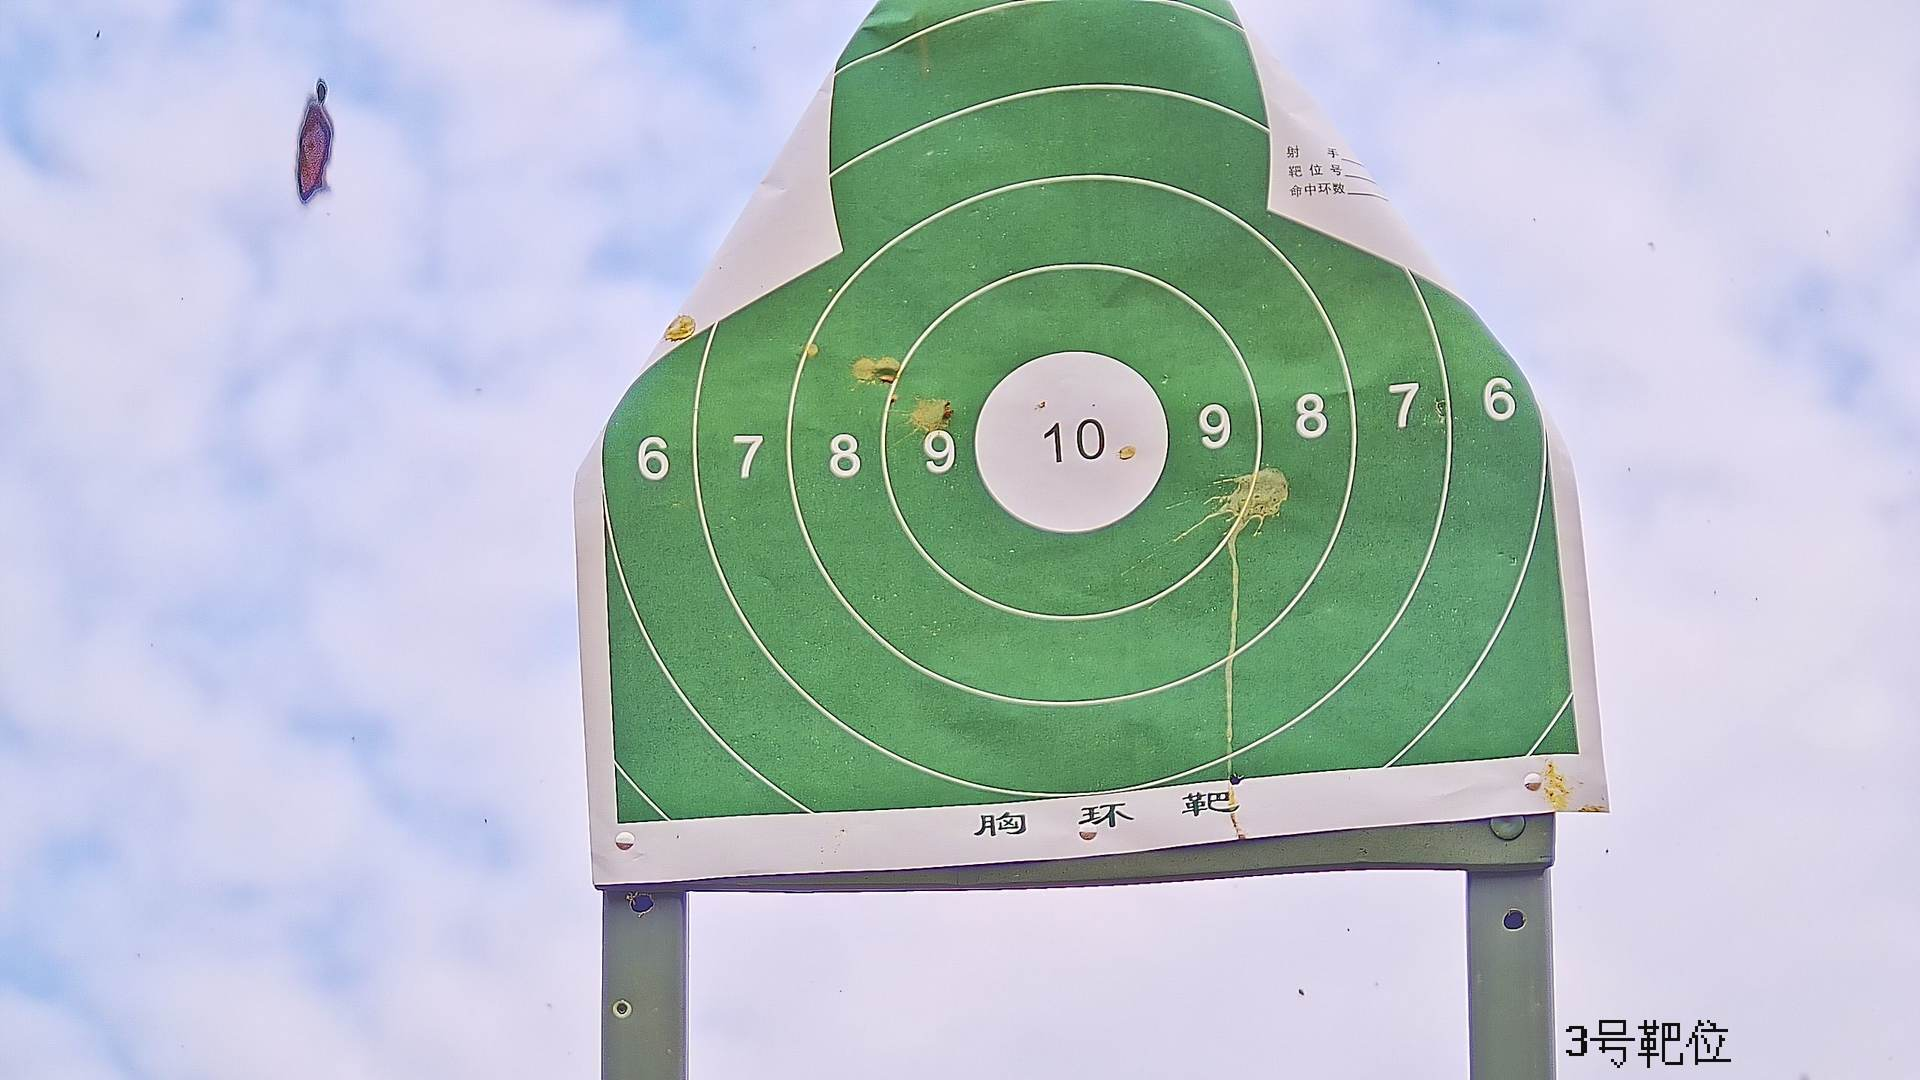hole: (1226, 773, 1247, 786)
kernel: (1067, 440, 1075, 444)
target: (603, 5, 1584, 824)
ten: (971, 347, 1170, 535)
